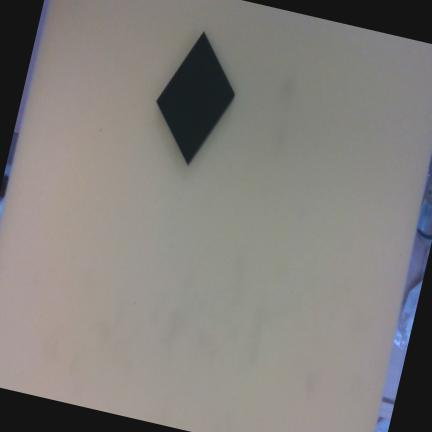tile: (135, 32, 255, 164)
